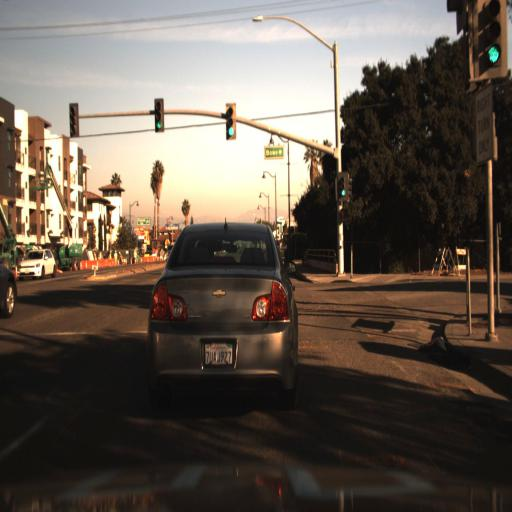car: (143, 212, 303, 407), (0, 244, 26, 341), (19, 246, 56, 279)
trafficLight: (220, 93, 236, 143), (60, 96, 76, 137), (148, 89, 162, 132)
trafficLight-Green: (467, 0, 510, 85), (338, 160, 357, 208)
